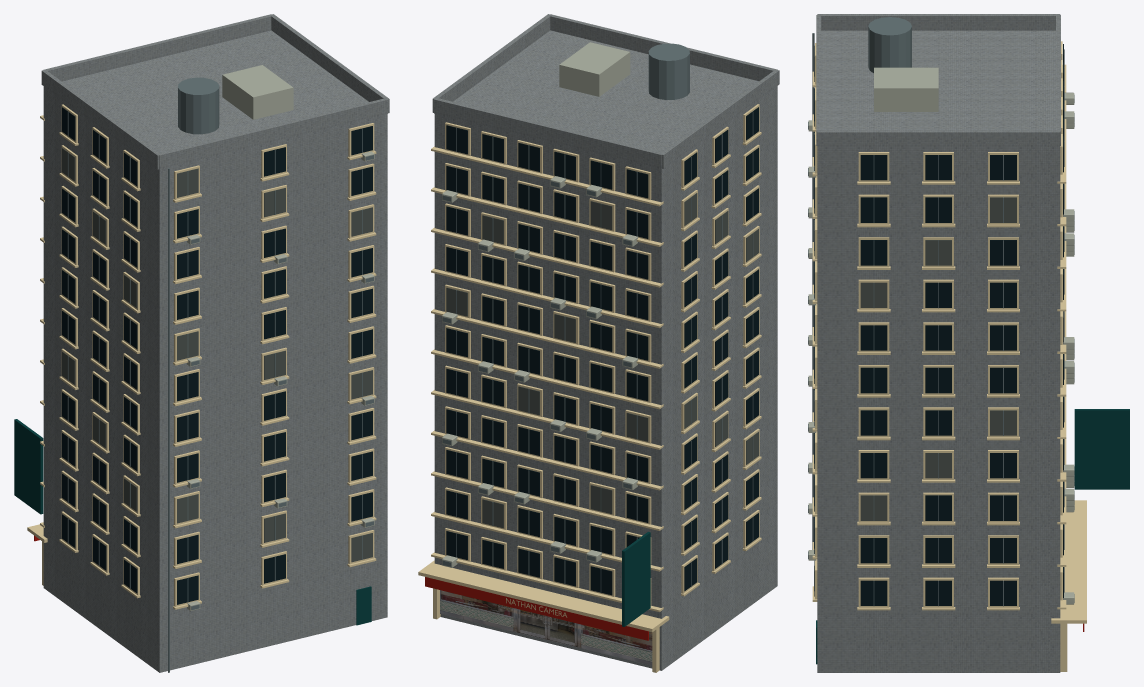
File: shop_2.glb
3 renders of one model, left to right at view 1: azimuth 30°, elevation 25°; view 2: azimuth 150°, elevation 25°; view 3: azimuth 270°, elevation 25°, orthographic. The views are drawn at different scales.
Visible parts, largest first — view 1: shop_2_Body.004; view 2: shop_2_Body.004; view 3: shop_2_Body.004.
Part boxes in pixels (x1,y1,x2,y2): shop_2_Body.004: (14,14,389,672); shop_2_Body.004: (418,14,779,672); shop_2_Body.004: (808,14,1129,672).
Bounding box in the file's own units: 17.5 × 38.7 × 19.86.
9 materials, 2 textured.
